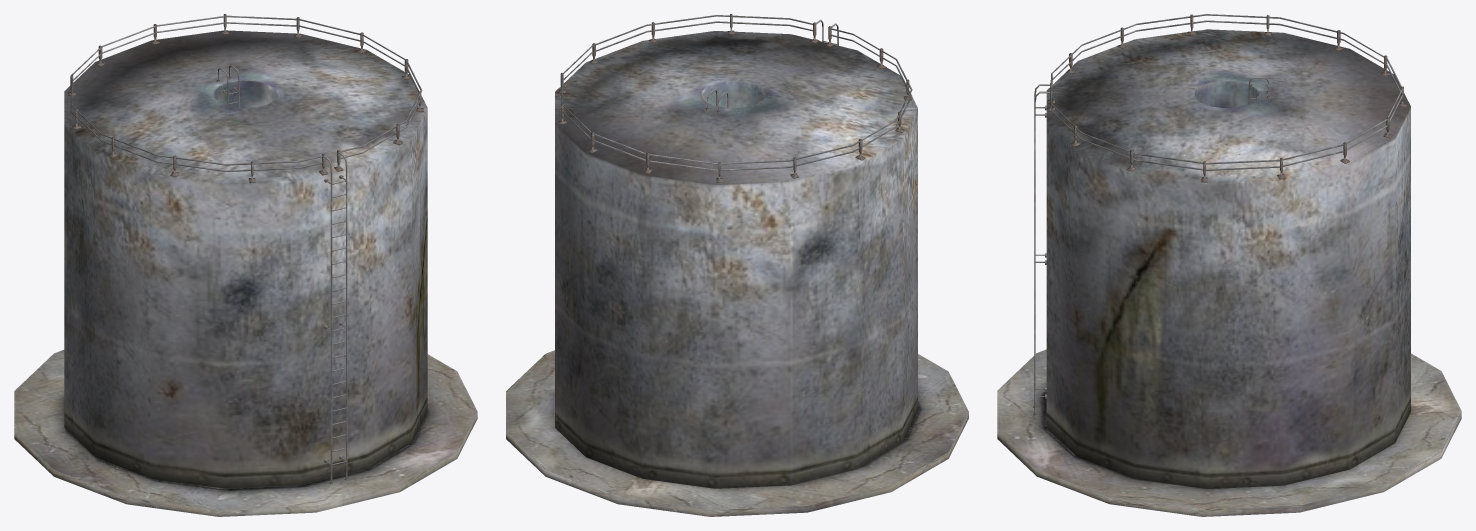
Rendered from tank_big.glb.
The picture shows the model from 3 angles, left to right: view 1: azimuth 30°, elevation 25°; view 2: azimuth 150°, elevation 25°; view 3: azimuth 270°, elevation 25°; orthographic projection.
Visible parts, largest first — view 1: tank_big; view 2: tank_big; view 3: tank_big.
Part boxes in pixels (x1,y1,x2,y2): tank_big: (14,14,477,516); tank_big: (506,14,968,516); tank_big: (997,14,1461,516).
Bounding box in the file's own units: 2.2 × 1.76 × 2.19.
Materials: 1 (1 with a texture image).
